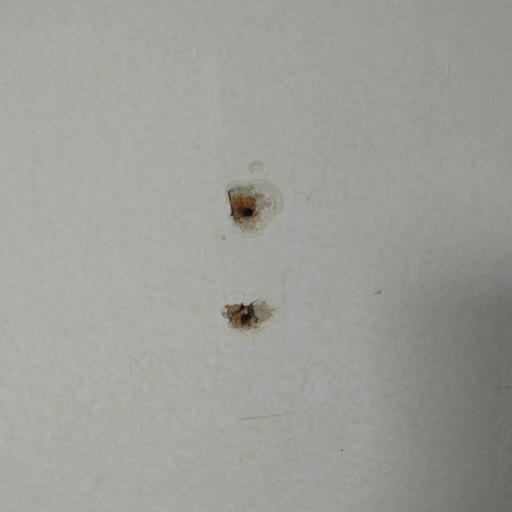spalling: (200, 165, 311, 237), (212, 281, 285, 355)
